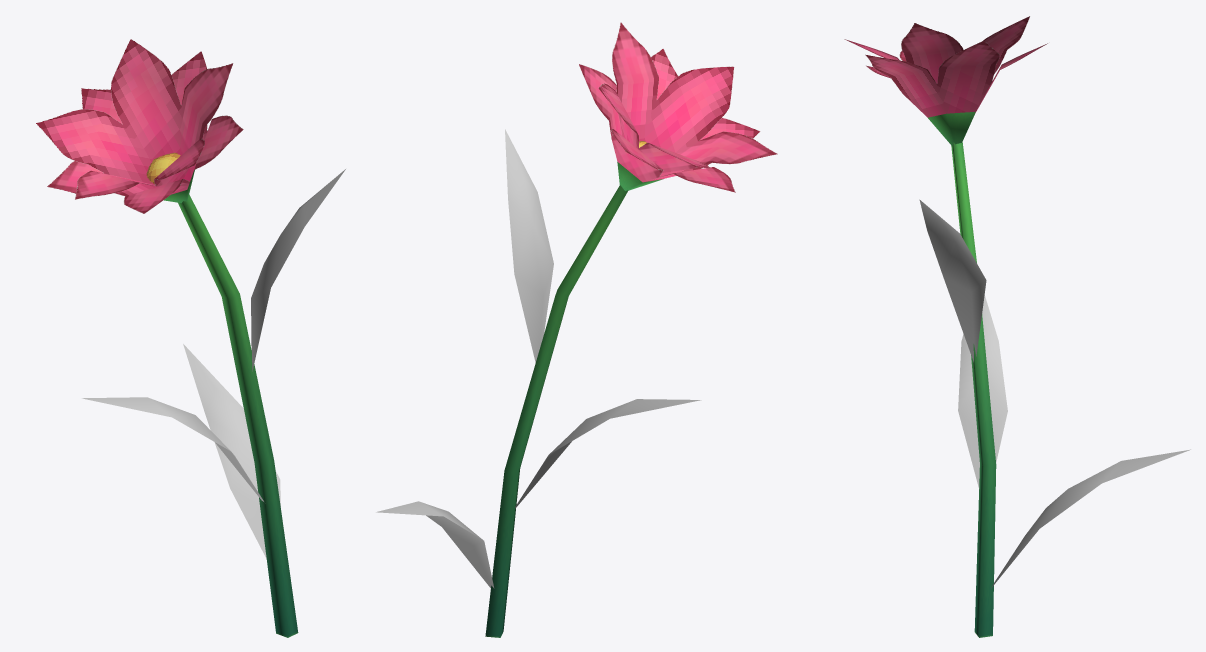
Rendered from Flower_Bellflower_2.fbx.
The picture shows the model from 3 angles, left to right: view 1: azimuth 30°, elevation 25°; view 2: azimuth 150°, elevation 25°; view 3: azimuth 270°, elevation 25°; orthographic projection. The views are drawn at different scales.
Parts seen in each view (by area): view 1: Cone.087, Cube.132, Cone.088, object6.096, object6.090, object6.089, Cone.086; view 2: Cone.087, Cube.132, object6.090, Cone.088, object6.096, object6.089; view 3: Cube.132, Cone.088, object6.090, object6.089, Cone.087, object6.096, Cone.089.
Part boxes in pixels (left/top/right/bottom): Cone.087: left=36, top=39, right=233, bottom=199; Cube.132: left=178, top=194, right=298, bottom=637; Cone.088: left=47, top=51, right=243, bottom=213; object6.096: left=183, top=344, right=280, bottom=558; object6.090: left=251, top=169, right=345, bottom=371; object6.089: left=82, top=397, right=263, bottom=501; Cone.086: left=146, top=152, right=180, bottom=183; Cone.087: left=598, top=22, right=777, bottom=172; Cube.132: left=485, top=185, right=628, bottom=637; object6.090: left=505, top=129, right=553, bottom=362; Cone.088: left=579, top=48, right=760, bottom=192; object6.096: left=376, top=501, right=494, bottom=588; object6.089: left=515, top=399, right=701, bottom=508; Cube.132: left=951, top=142, right=996, bottom=637; Cone.088: left=865, top=41, right=1047, bottom=117; object6.090: left=919, top=199, right=986, bottom=362; object6.089: left=958, top=295, right=1007, bottom=488; Cone.087: left=844, top=16, right=1029, bottom=83; object6.096: left=991, top=449, right=1190, bottom=588; Cone.089: left=928, top=111, right=975, bottom=146.
Size of the model in its own units: 40.5 by 82.43 by 47.33.
